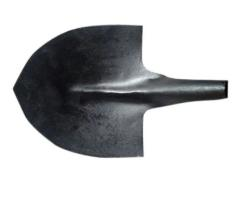PELLE: (4, 20, 229, 163)
